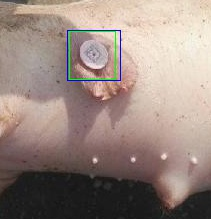text: (69, 31, 115, 79)
